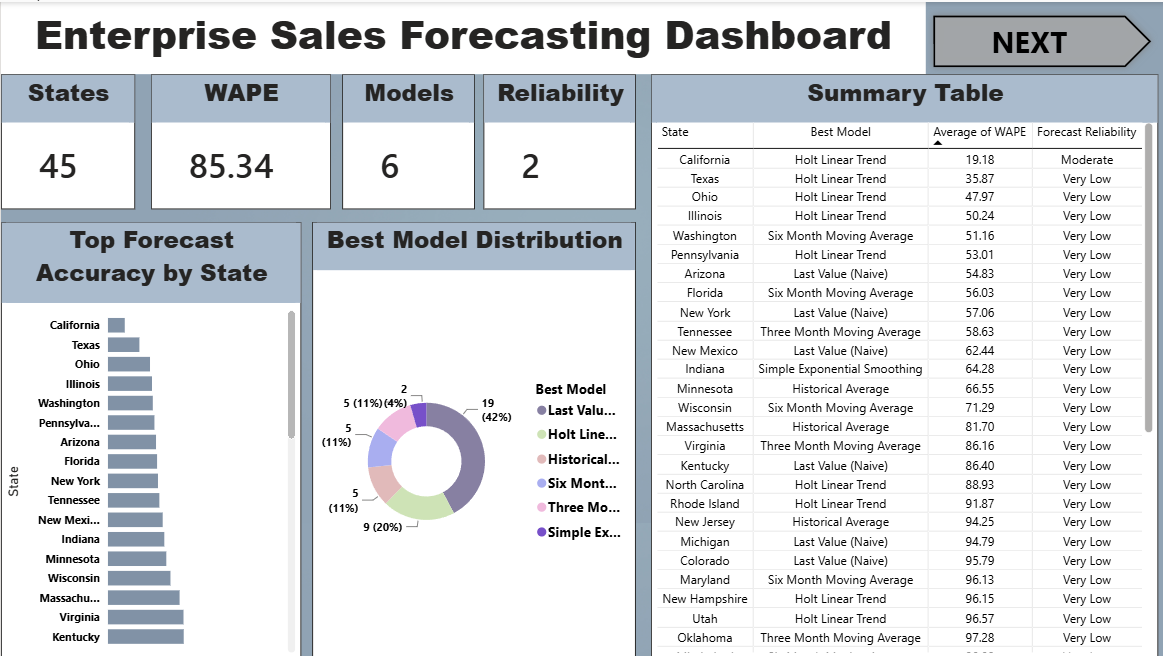

This screenshot's page, from the dashboard's own definition file:
{"tool":"powerbi","page":{"name":"Executive Summary","canvas":[1280,720],"ordinal":0},"visuals":[{"type":"textbox","box":[0,0,1015.4,79.6],"z":0},{"type":"cardVisual","title":"States","fields":{"Data":["Count(state_summary.State)"]},"box":[0,79.6,146.8,148.2],"z":1000},{"type":"cardVisual","title":"WAPE","fields":{"Data":["Avg(state_summary.WAPE)"]},"box":[164.7,79.6,197.6,148.2],"z":2000},{"type":"cardVisual","title":"Models","fields":{"Data":["Count(state_summary.Best Model)"]},"box":[374.6,79.6,145.5,148.2],"z":3000},{"type":"cardVisual","title":"Reliability","fields":{"Data":["Count(state_summary.Forecast Reliability)"]},"box":[529.7,79.6,167.4,148.2],"z":4000},{"type":"clusteredBarChart","title":"Top Forecast Accuracy by State","fields":{"Category":["state_summary.State"],"Y":["Sum(state_summary.WAPE)"]},"box":[0,241.5,329.3,478.9],"z":5000},{"type":"donutChart","title":"Best Model Distribution","fields":{"Category":["state_summary.Best Model"],"Y":["CountNonNull(state_summary.State)"]},"box":[341.7,241.5,355.4,478.9],"z":6000},{"type":"tableEx","title":"Summary Table","fields":{"Values":["state_summary.State","state_summary.Best Model","Avg(state_summary.WAPE)","state_summary.Forecast Reliability"]},"box":[713.6,79.6,557.1,640.8],"z":7000},{"type":"shape","box":[1015.4,6.9,255.2,72.7],"z":8000}]}

Visuals, with their boxes in screenshot pixels (x1, y1, x2, y2), scaled from the page's 1280x720 canvas onto the 1163x656 screenshot:
textbox: region(0, 0, 923, 73)
"States" cardVisual: region(0, 73, 133, 208)
"WAPE" cardVisual: region(150, 73, 329, 208)
"Models" cardVisual: region(340, 73, 473, 208)
"Reliability" cardVisual: region(481, 73, 633, 208)
"Top Forecast Accuracy by State" clusteredBarChart: region(0, 220, 299, 655)
"Best Model Distribution" donutChart: region(310, 220, 633, 655)
"Summary Table" tableEx: region(648, 73, 1155, 655)
shape: region(923, 6, 1154, 73)
